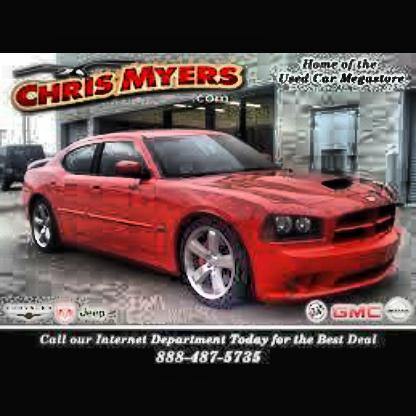Dodge Charger SRT-8 2009: (21, 128, 404, 312)
